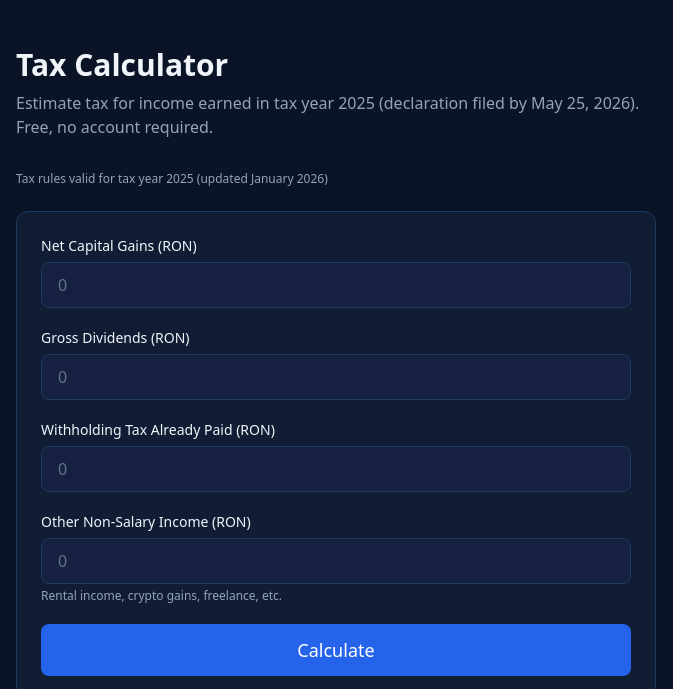
Test: CalculatorPage › handles dividend tax with withholding credit
Type "1000" into the field with placeholder "0" at (336, 377), box [41, 354, 631, 400]
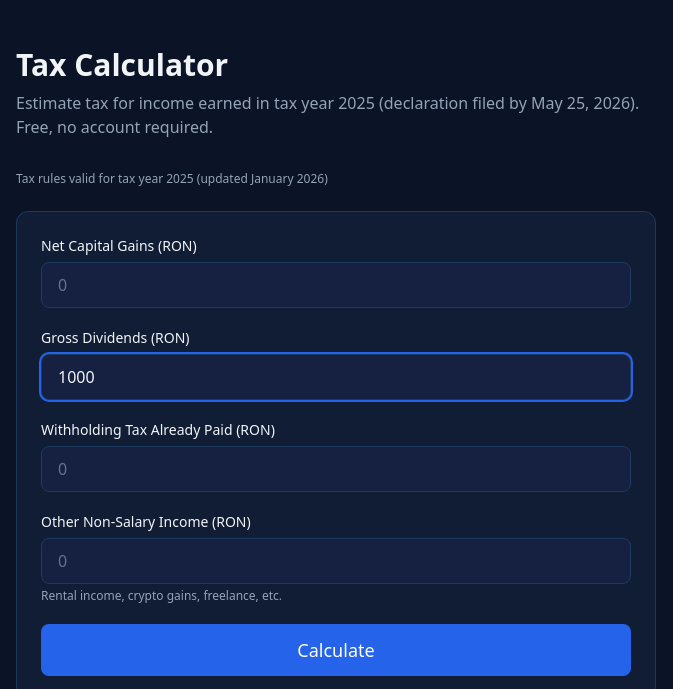
Type "150" into the field with placeholder "0" at (336, 469), box [41, 446, 631, 492]
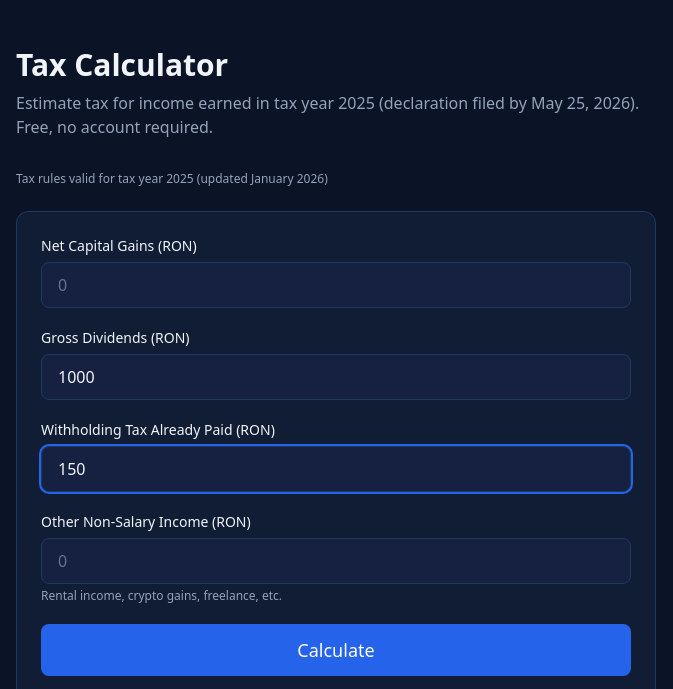
Click the button "Calculate" at (336, 650), box [41, 624, 631, 676]
(page scrolled)
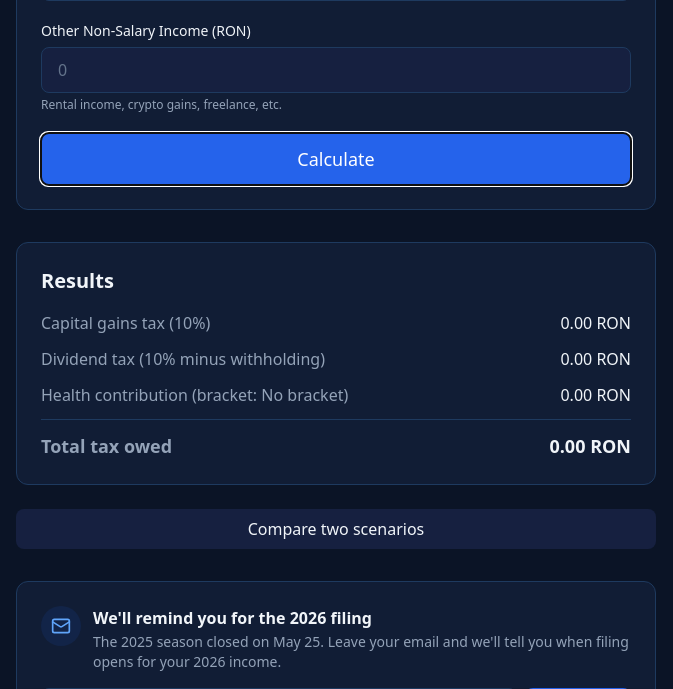
Check: the heading "Results" is shown, box [41, 267, 114, 294]
Check: the text "Dividend tax (10% minus withholding)" is shown, box [41, 347, 325, 371]
